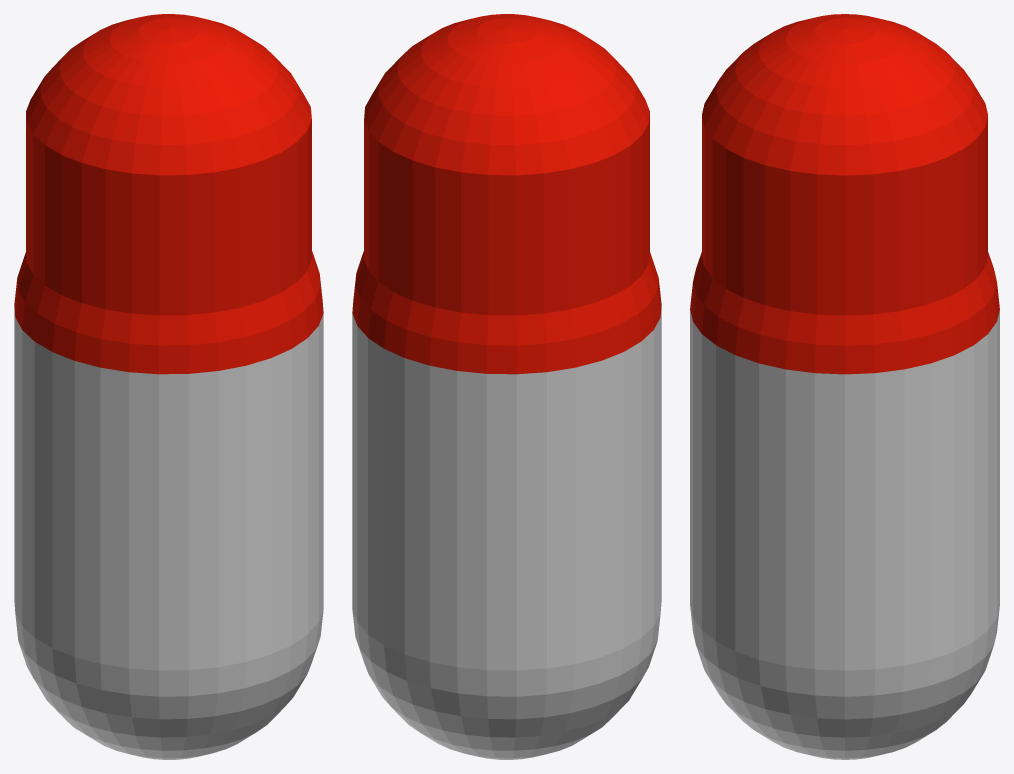
Rendered from AspirinaB.fbx.
3 renders of one model, left to right at view 1: azimuth 30°, elevation 25°; view 2: azimuth 150°, elevation 25°; view 3: azimuth 270°, elevation 25°, orthographic.
Visible parts, largest first — view 1: Sphere; view 2: Sphere; view 3: Sphere.
Boxes of the visible parts, <box> form: Sphere: <box>14,14,323,759</box>; Sphere: <box>352,14,661,759</box>; Sphere: <box>690,14,999,759</box>.
Bounding box in the file's own units: 2 × 5.11 × 2.
